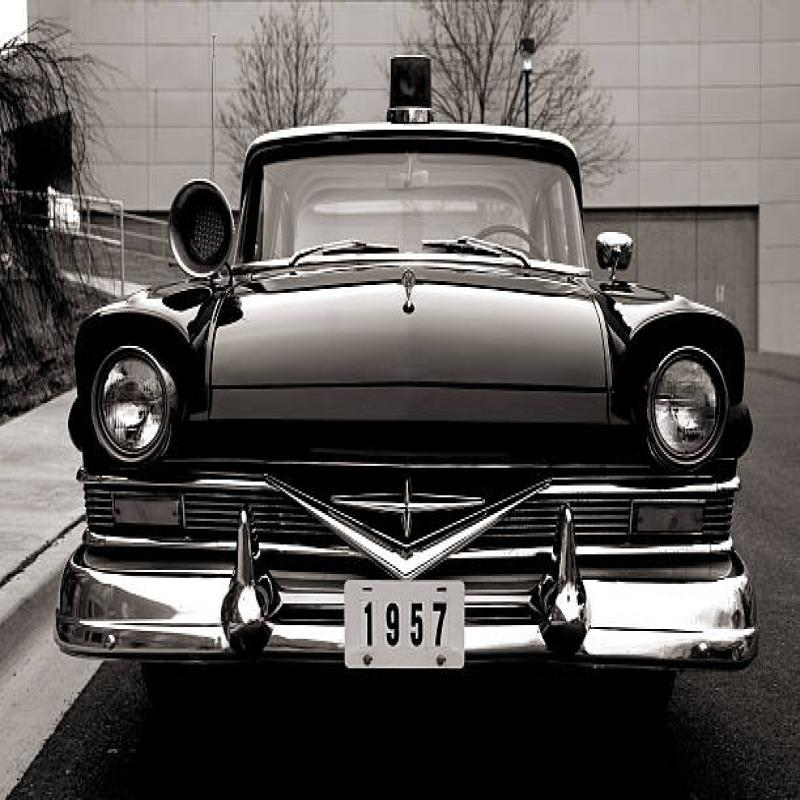AmbulanceSiren: (373, 45, 443, 130)
